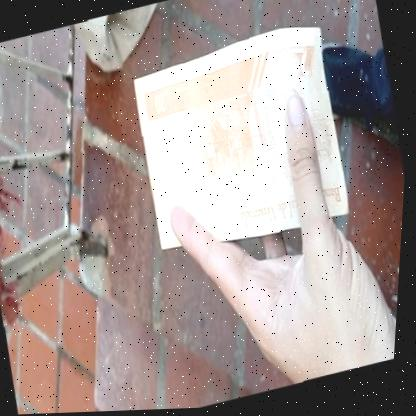twenty-back-vef: (124, 19, 361, 262)
